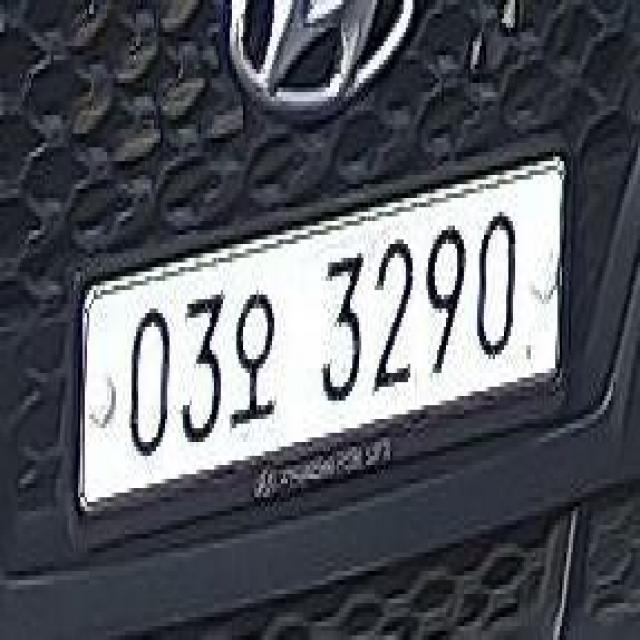illegal_plate: (76, 156, 566, 528)
